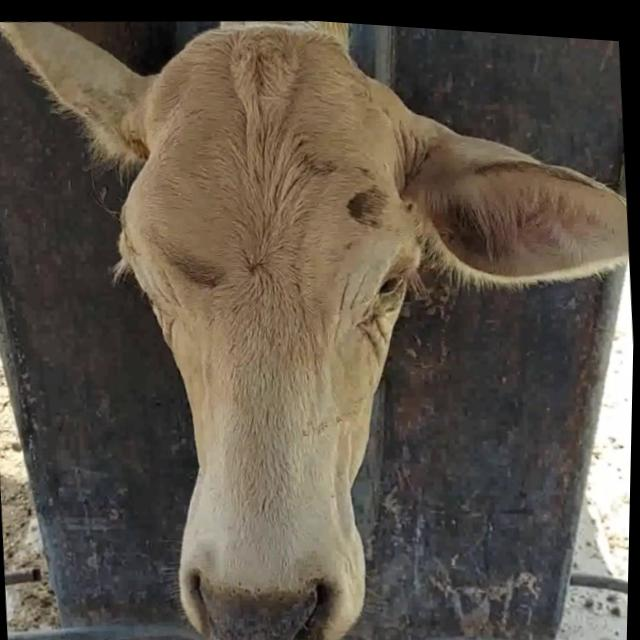cowFace: (99, 6, 453, 640)
